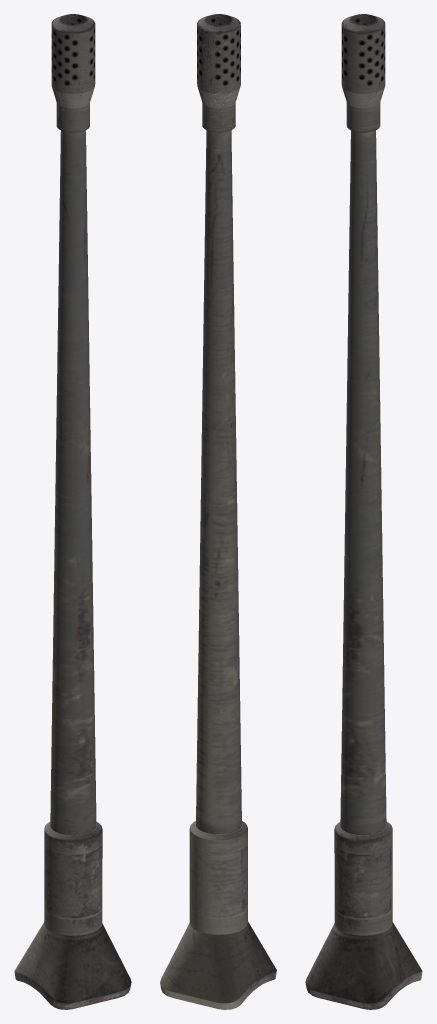
File: Gun_03.glb
3 views of the same model, side by side, from view 1: azimuth 30°, elevation 25°; view 2: azimuth 150°, elevation 25°; view 3: azimuth 330°, elevation 25° (orthographic).
Parts seen in each view (by area): view 1: set_0_group_0; view 2: set_0_group_0; view 3: set_0_group_0.
Boxes of the visible parts, x1,y1,x2,y2 form: set_0_group_0: [14, 14, 131, 1009]; set_0_group_0: [160, 14, 276, 1009]; set_0_group_0: [305, 14, 422, 1009].
Size of the model in its own units: 0.5219 by 6.12 by 0.5663.
1 material, 1 textured.
